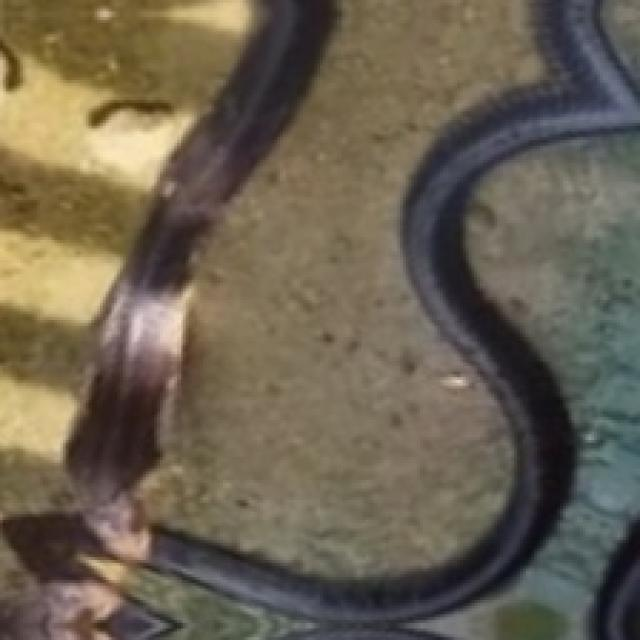king cobra: (65, 0, 640, 622)
